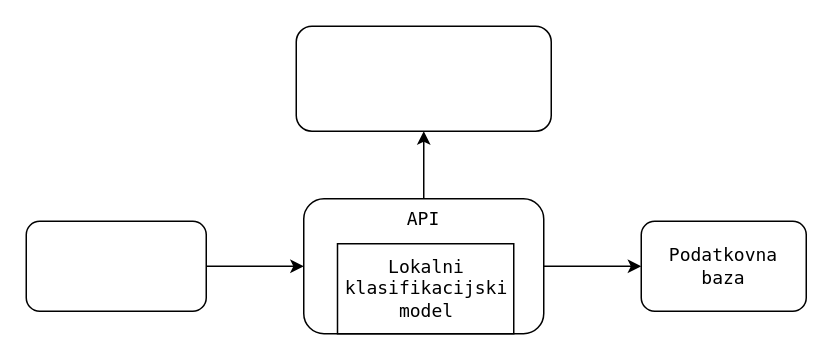
Some shapes in this 833 by 360 pixel diagram are drawn without their labels. The box of each missing label's shape, as (x1, y1, x2, y2) in pixels:
Klasifikacijski model gostovan preko Hugging Face API: (295, 25, 551, 131)
Spletna aplikacij: (25, 220, 206, 311)
